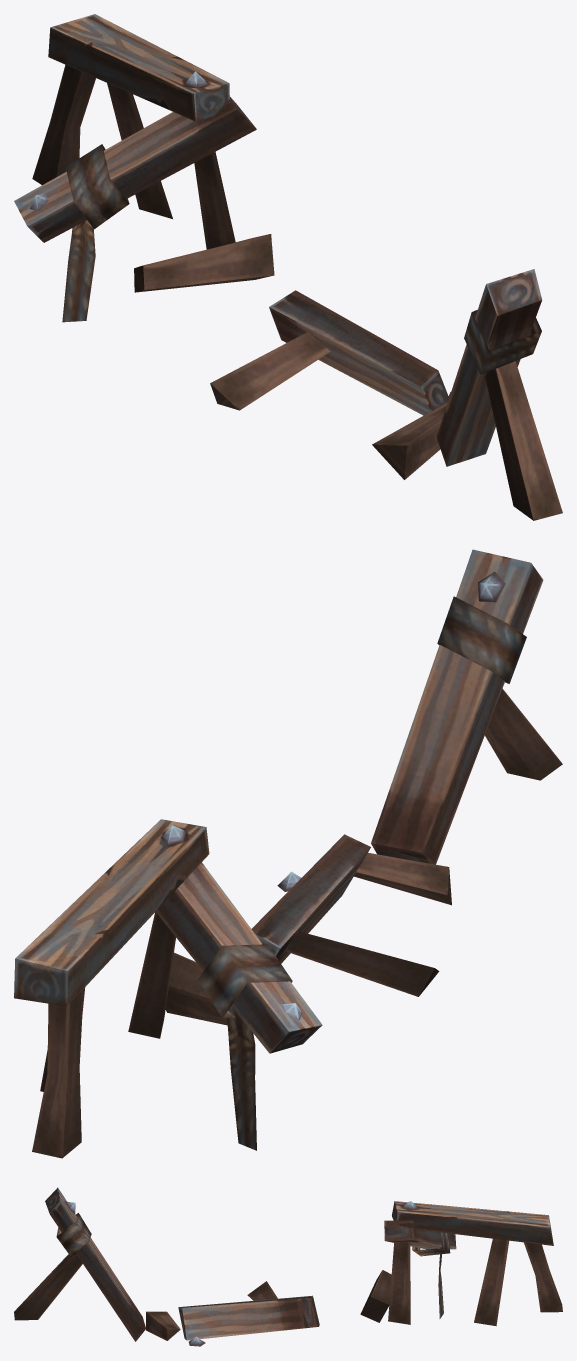
The model's file is mine_railing04.fbx.
3 renders of one model, top to bottom at view 1: azimuth 30°, elevation 25°; view 2: azimuth 150°, elevation 25°; view 3: azimuth 270°, elevation 25°, orthographic. The views are drawn at different scales.
Parts seen in each view (by area): view 1: 13_-_Default; view 2: 13_-_Default; view 3: 13_-_Default.
Part boxes in pixels (x1=…): 13_-_Default: x1=14, y1=14, x2=562, y2=520; 13_-_Default: x1=14, y1=549, x2=562, y2=1158; 13_-_Default: x1=14, y1=1187, x2=562, y2=1346.
Bounding box in the file's own units: 2.4 × 2.52 × 8.24.
